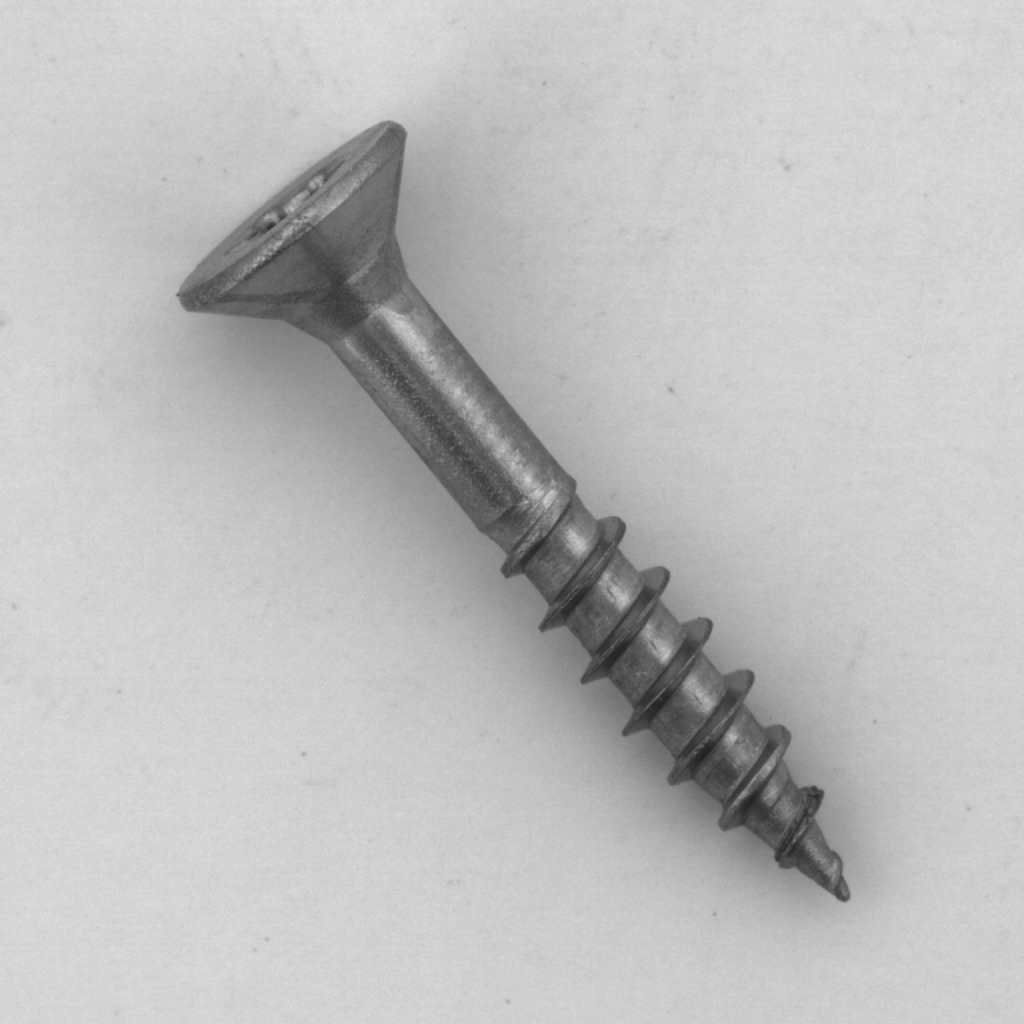good: (166, 103, 858, 913)
